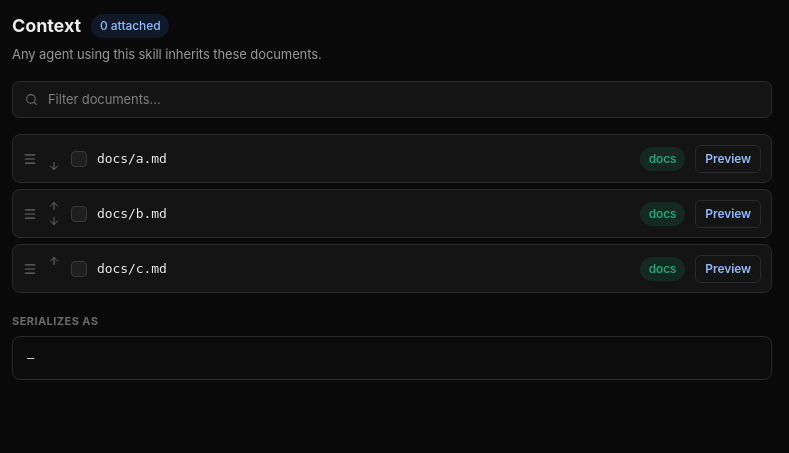
Skill ContextTab: optimistic serialized attach › B5 / C-AC-31: a toggle shows immediately, before the server responds
The image size is (789, 453).
Expected: the text "0 attached" is shown, [91,14,170,38]
Click the checkbox named "docs/a.md" at (79, 158), box [71,150,87,166]
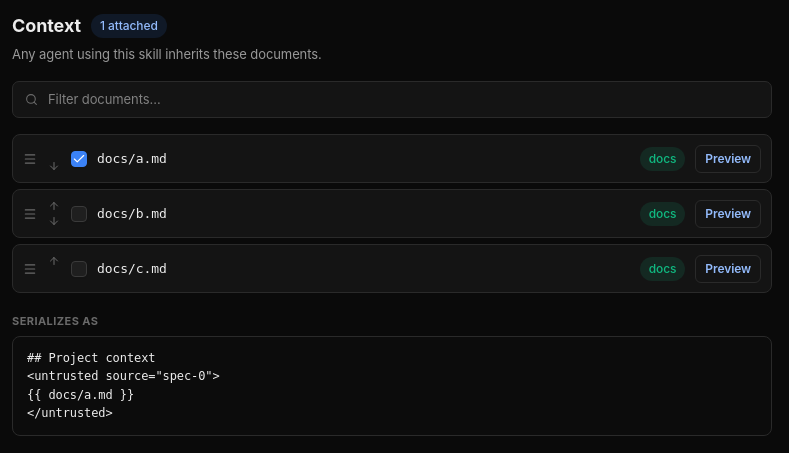
Now the text "1 attached" is shown, box [91,14,167,38]
